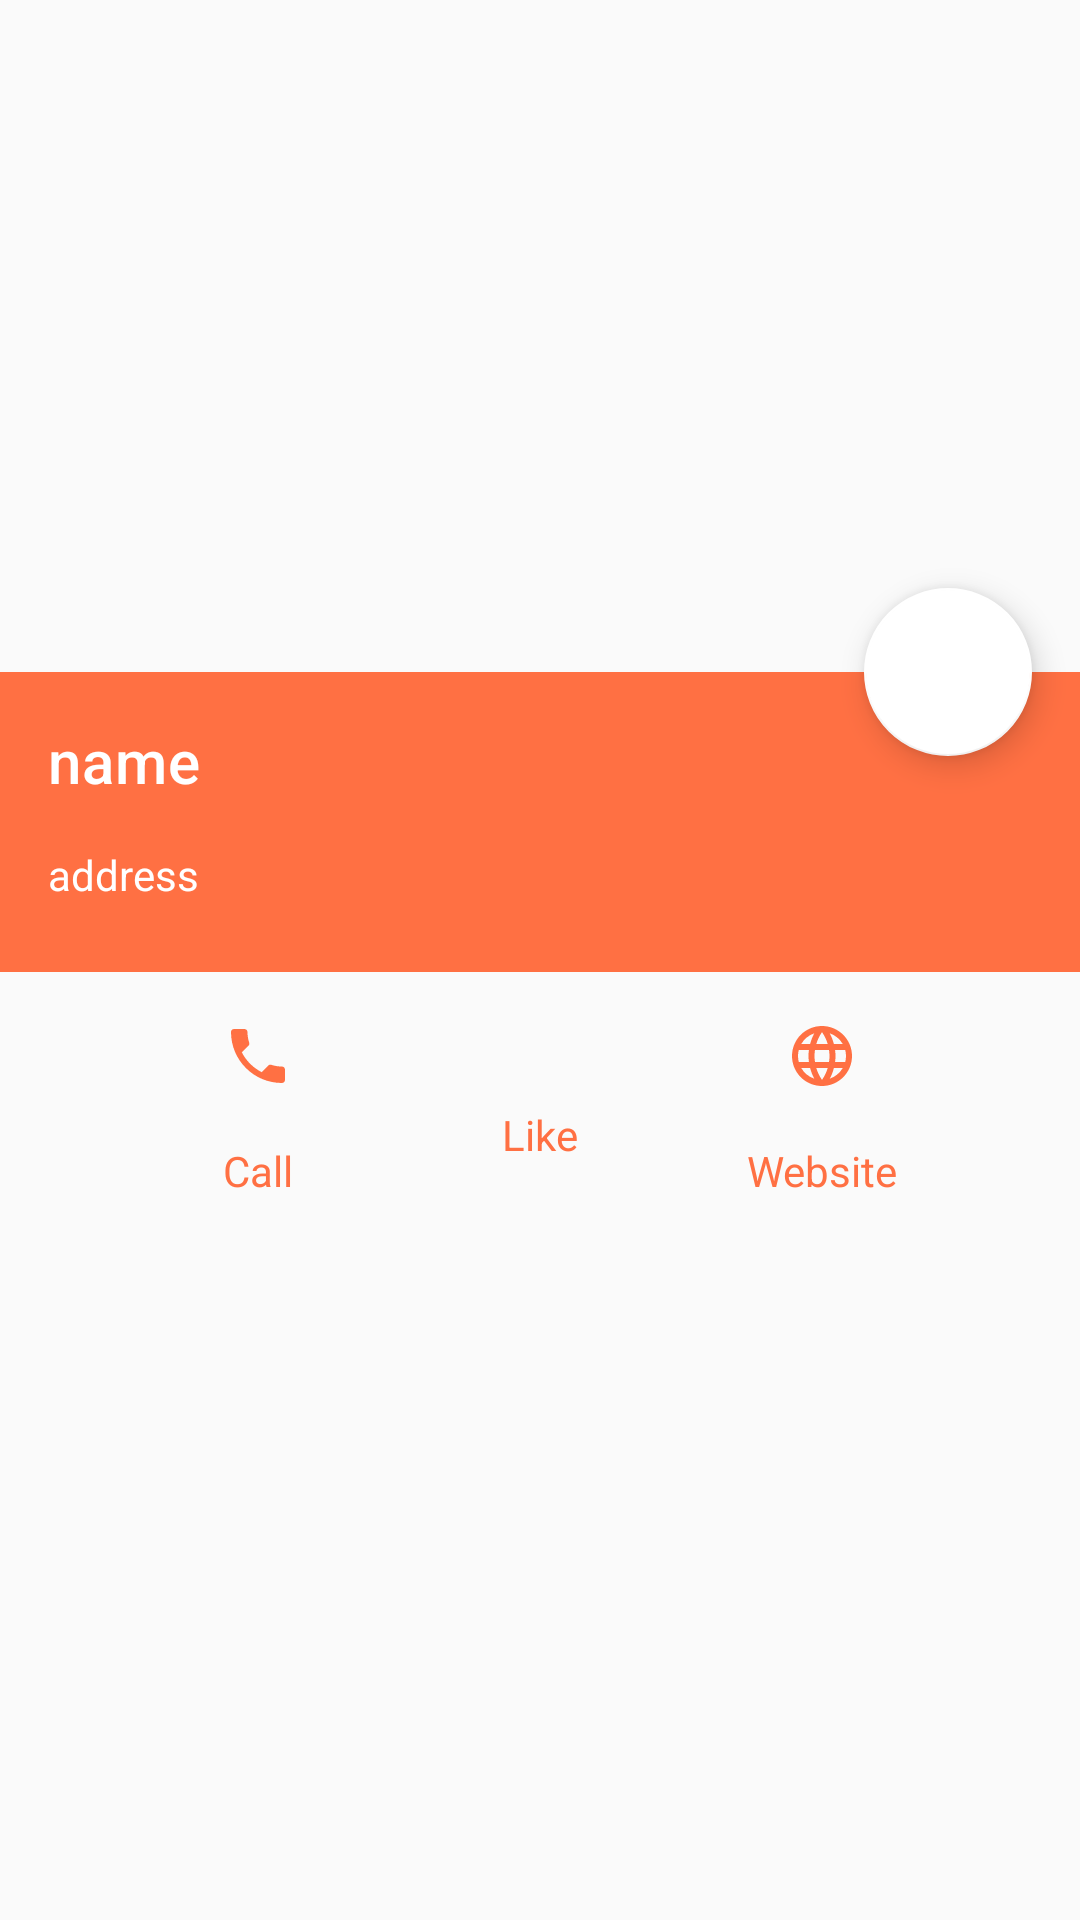

Icon bounding boxes for this 1080px×1920px phone screenshot, format bbox=[x1, y1, x2, y2]:
web icon: bbox=[792, 1026, 852, 1086]
